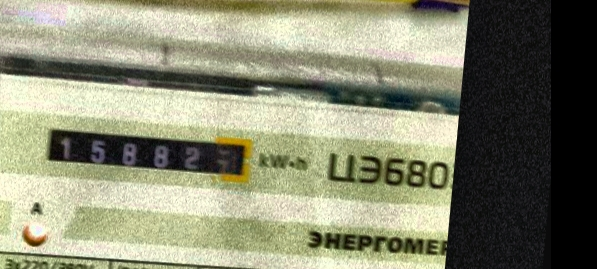1: (59, 134, 75, 160)
2: (184, 143, 203, 170)
5: (90, 137, 108, 163)
7: (215, 156, 231, 173)
8: (120, 140, 140, 165), (152, 141, 171, 167)
screen: (33, 112, 264, 193)
